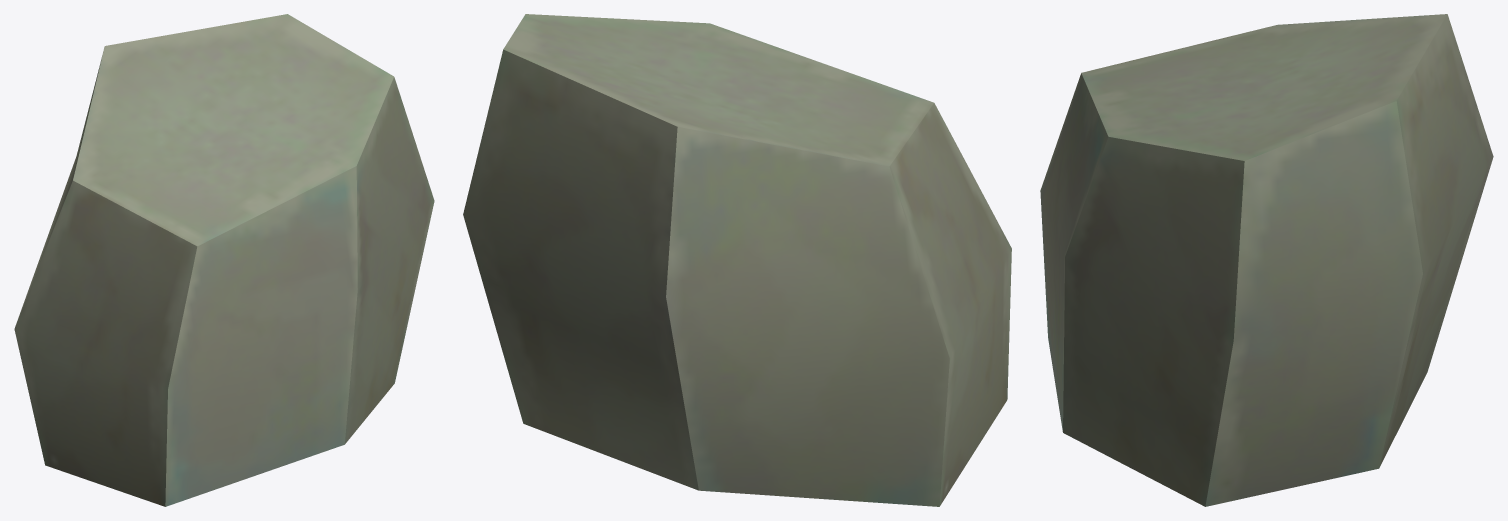
File: LargeRock.fbx
3 views of the same model, side by side, from view 1: azimuth 30°, elevation 25°; view 2: azimuth 150°, elevation 25°; view 3: azimuth 270°, elevation 25° (orthographic). The views are drawn at different scales.
Parts seen in each view (by area): view 1: LargeRock; view 2: LargeRock; view 3: LargeRock.
Part boxes in pixels (left/top/right/bottom): LargeRock: left=14, top=14, right=434, bottom=506; LargeRock: left=463, top=14, right=1011, bottom=506; LargeRock: left=1040, top=14, right=1493, bottom=506.
Size of the model in its own units: 1.01 by 0.8197 by 0.8163.
